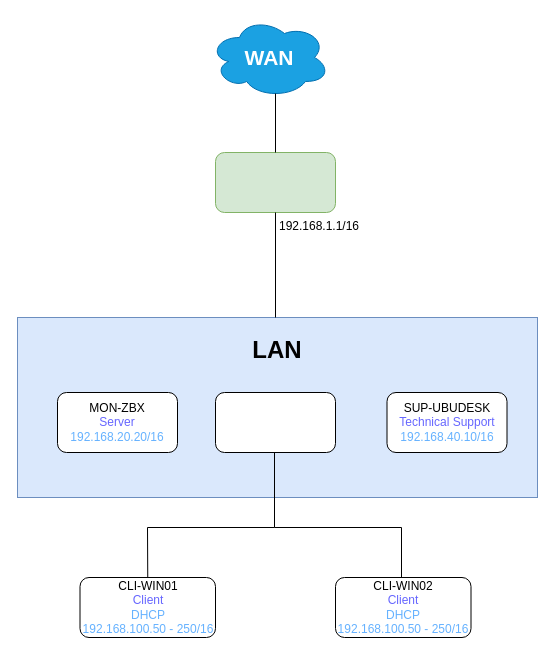
The diagram is 555 pixels wide and 655 high, and some of its shapes have lost their labels. Here are the shapes that lost their labels. From the top down, the centre of each, then its label:
At point 275,182: "FW-pfSense".
At point 275,422: "DC01 Server 192.168.20.10/16".
